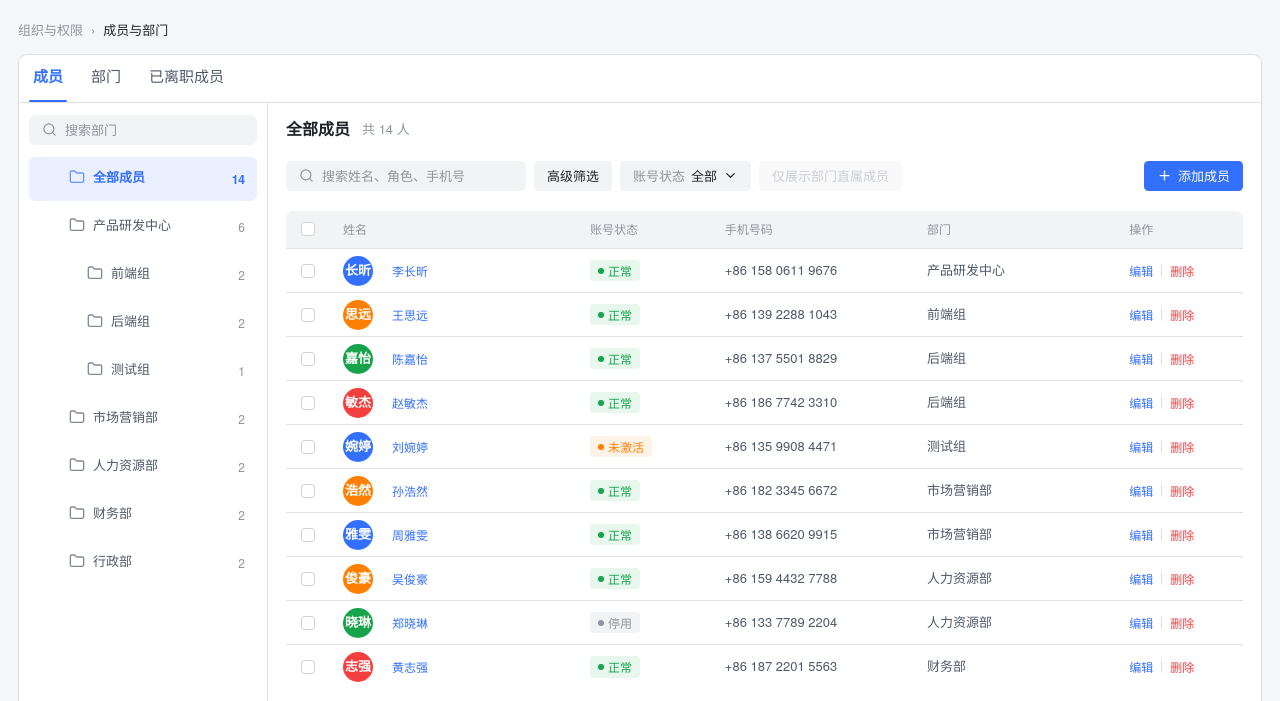
detail request failure shows an error message and retry recovers the profile
What coordinates should you click on to do the following:
click the button "李长昕"
I would click on:
 (410, 270)
Its box is [383,258,437,282].
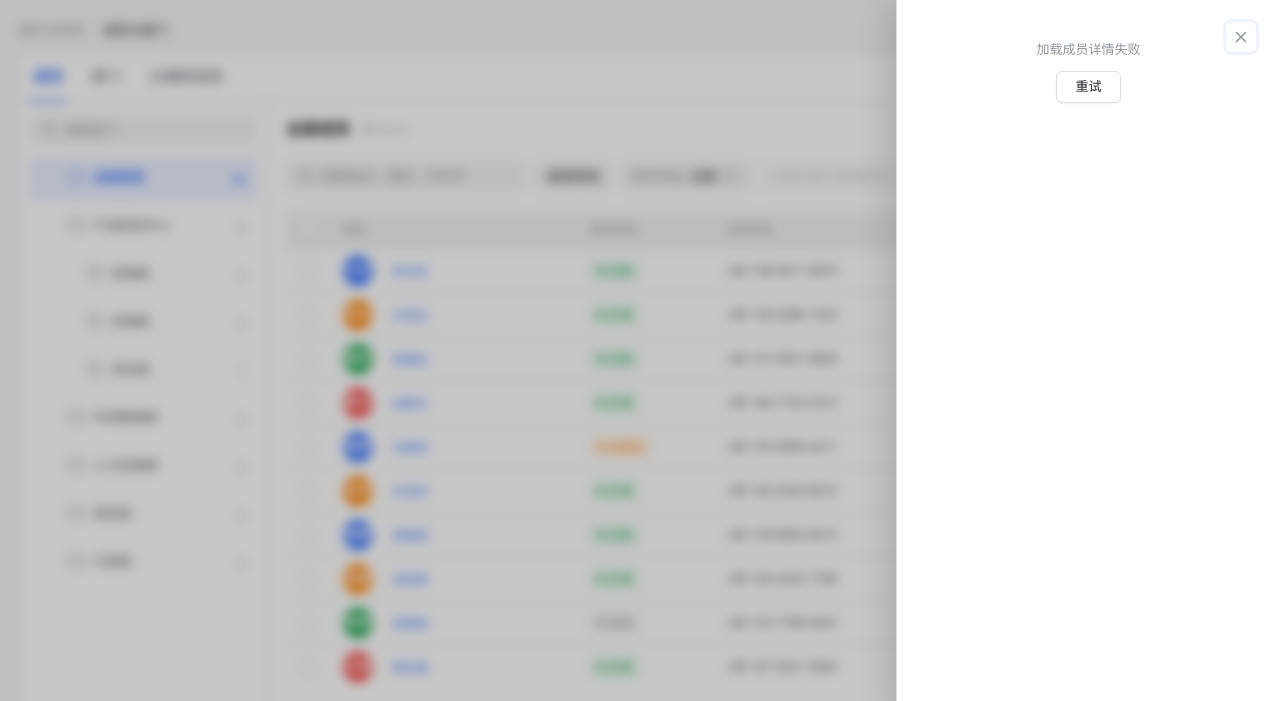
Expected: the text "加载成员详情失败" is shown, [1036,40,1140,59]
What coordinates should you click on to do the following:
click the button "重试"
I would click on:
 (1088, 87)
Its box is [1056,71,1120,103].
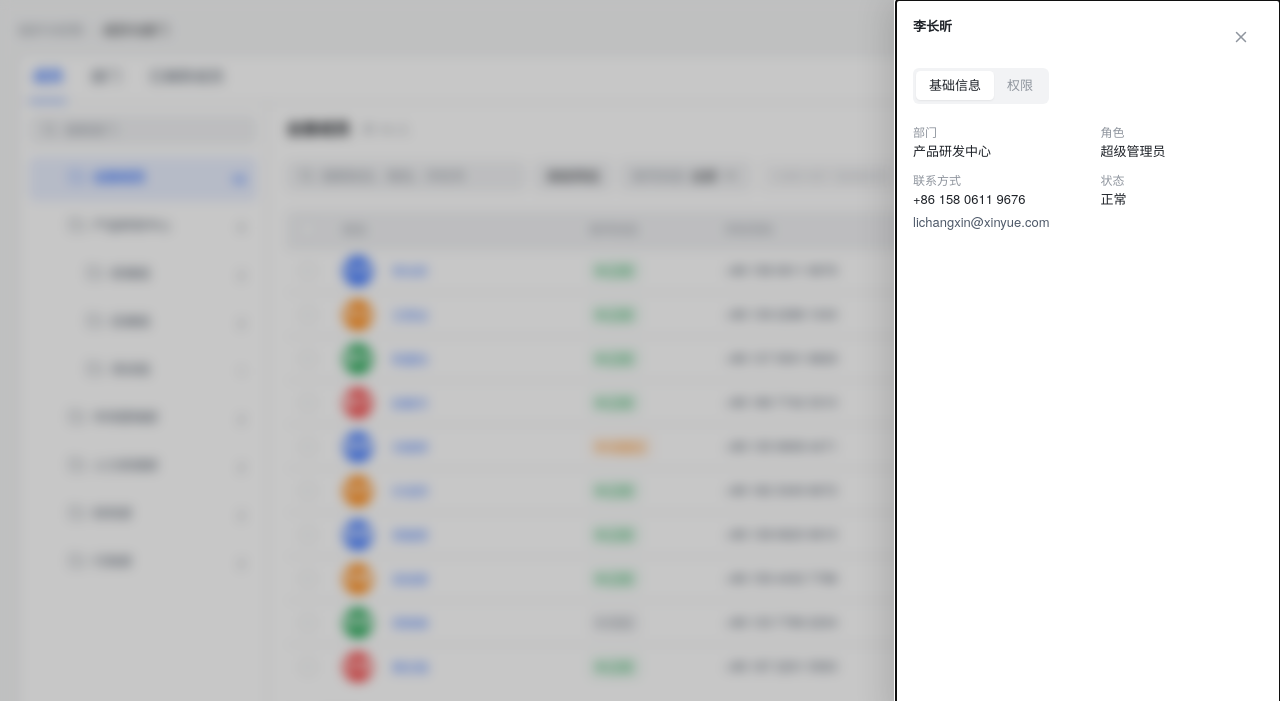
Expected: the text "超级管理员" is shown, [1100,142,1166,160]
